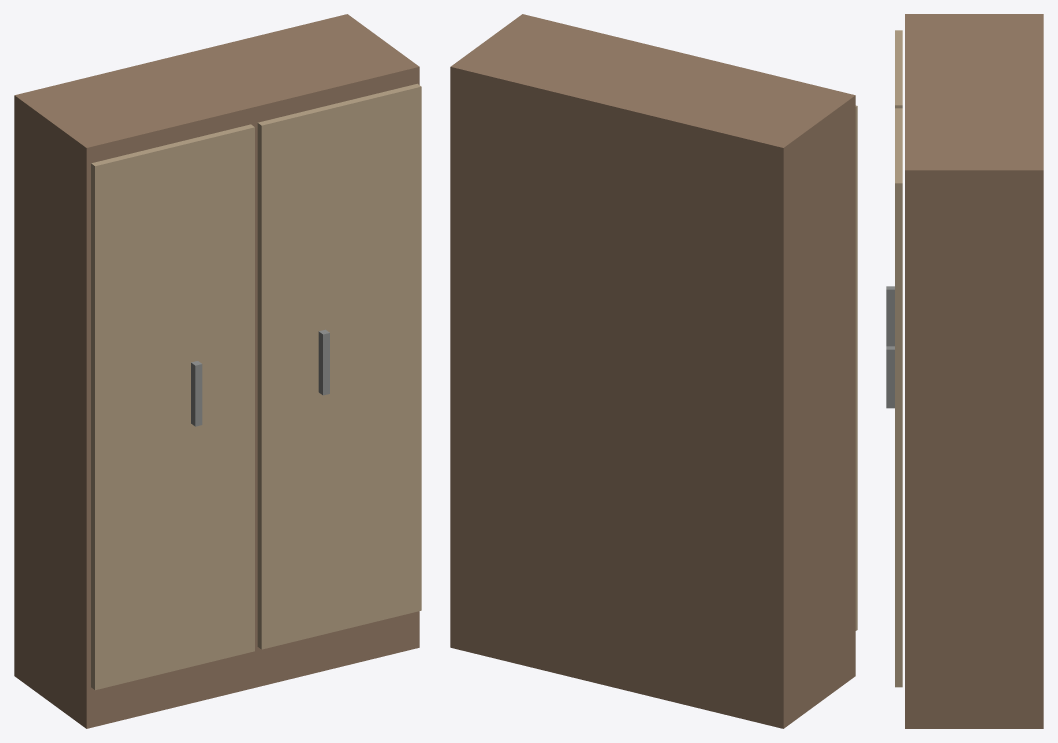
The model's file is wardrobe.glb.
The picture shows the model from 3 angles, left to right: view 1: azimuth 30°, elevation 25°; view 2: azimuth 150°, elevation 25°; view 3: azimuth 270°, elevation 25°; orthographic projection. The views are drawn at different scales.
Visible parts, largest first — view 1: wardrobe_body, wardrobe_door_1, wardrobe_door_0, wardrobe_handle_0, wardrobe_handle_1; view 2: wardrobe_body, wardrobe_door_0; view 3: wardrobe_body, wardrobe_door_1, wardrobe_door_0, wardrobe_handle_1, wardrobe_handle_0.
Boxes of the visible parts, x1,y1,x2,y2 form: wardrobe_body: [14, 14, 419, 728]; wardrobe_door_1: [257, 83, 421, 649]; wardrobe_door_0: [91, 124, 254, 690]; wardrobe_handle_0: [191, 361, 202, 426]; wardrobe_handle_1: [318, 329, 329, 395]; wardrobe_body: [450, 14, 855, 728]; wardrobe_door_0: [855, 105, 857, 630]; wardrobe_body: [905, 14, 1043, 728]; wardrobe_door_1: [895, 108, 902, 687]; wardrobe_door_0: [895, 30, 902, 108]; wardrobe_handle_1: [886, 346, 894, 408]; wardrobe_handle_0: [886, 286, 894, 346].
Bounding box in the file's own units: 1.2 × 2 × 0.51.
